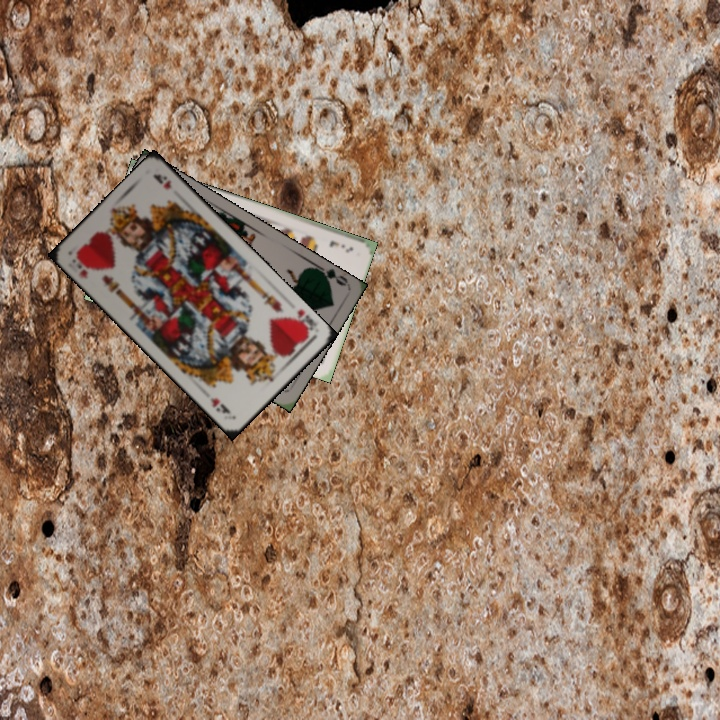E7: (325, 236, 356, 255)
GO: (310, 260, 350, 289)
HK: (285, 305, 320, 338), (67, 250, 96, 282)
